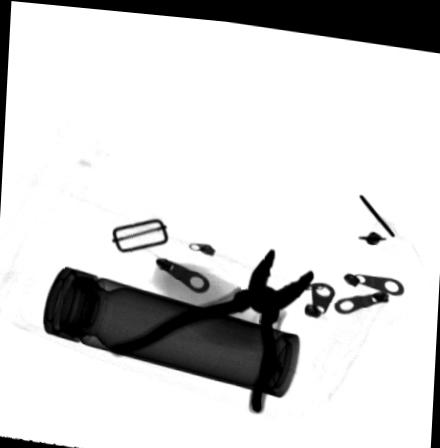Pliers: (107, 241, 316, 409)
